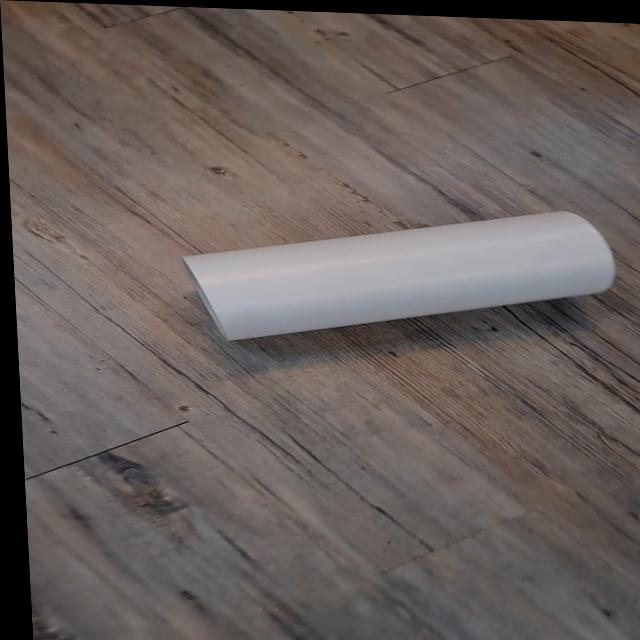CORAL: (176, 190, 624, 364)
